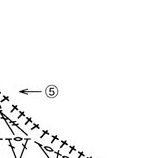enseble_chain: (0, 102, 33, 145), (28, 133, 74, 158), (13, 135, 37, 158), (18, 83, 44, 100), (5, 137, 21, 158), (44, 84, 59, 99)
